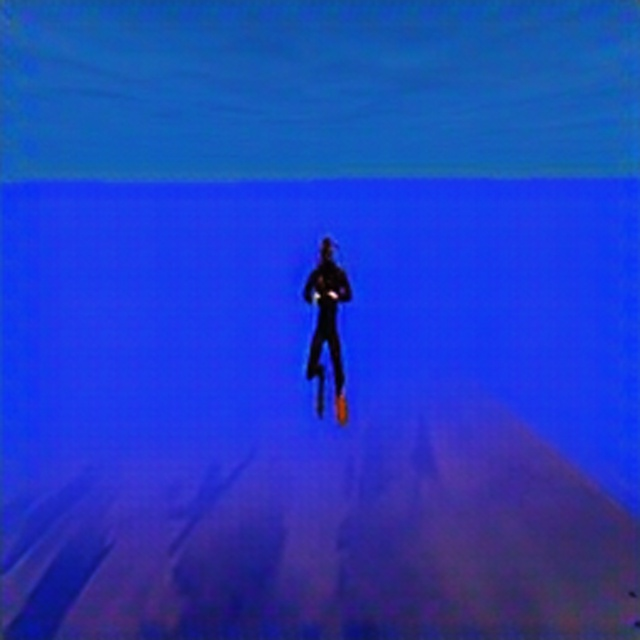diver: (299, 233, 355, 427)
